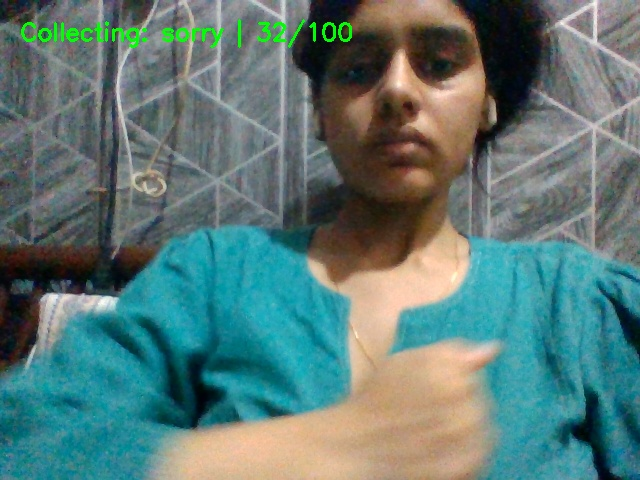sorry: (310, 335, 536, 480)
